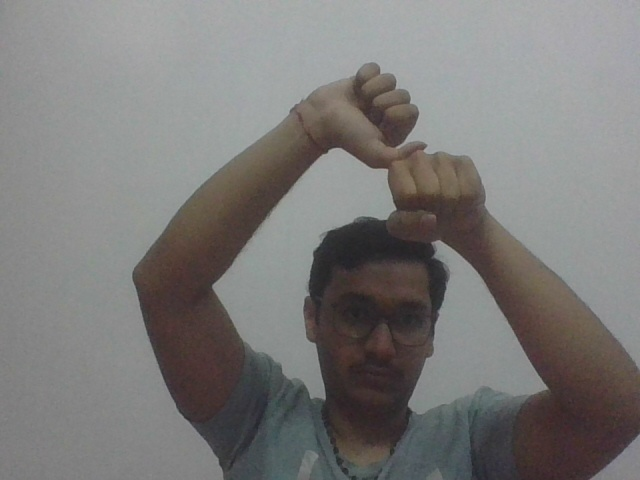S: (320, 55, 489, 248)
